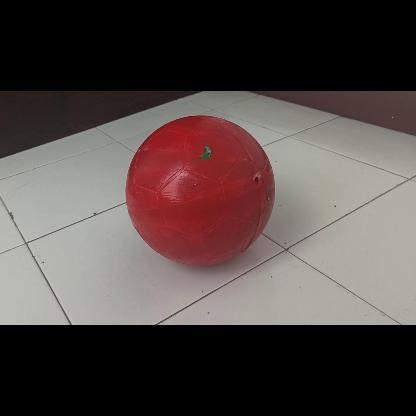red_ball: (121, 116, 274, 268)
